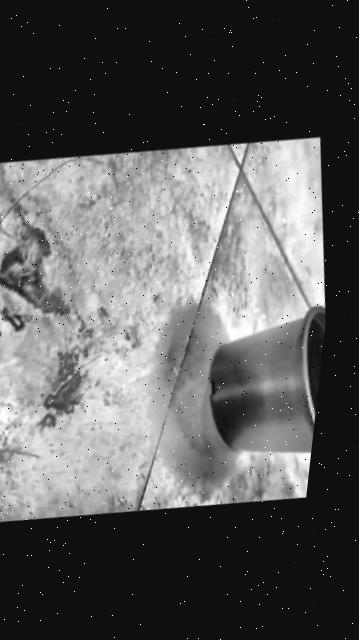pot: (188, 298, 327, 476)
